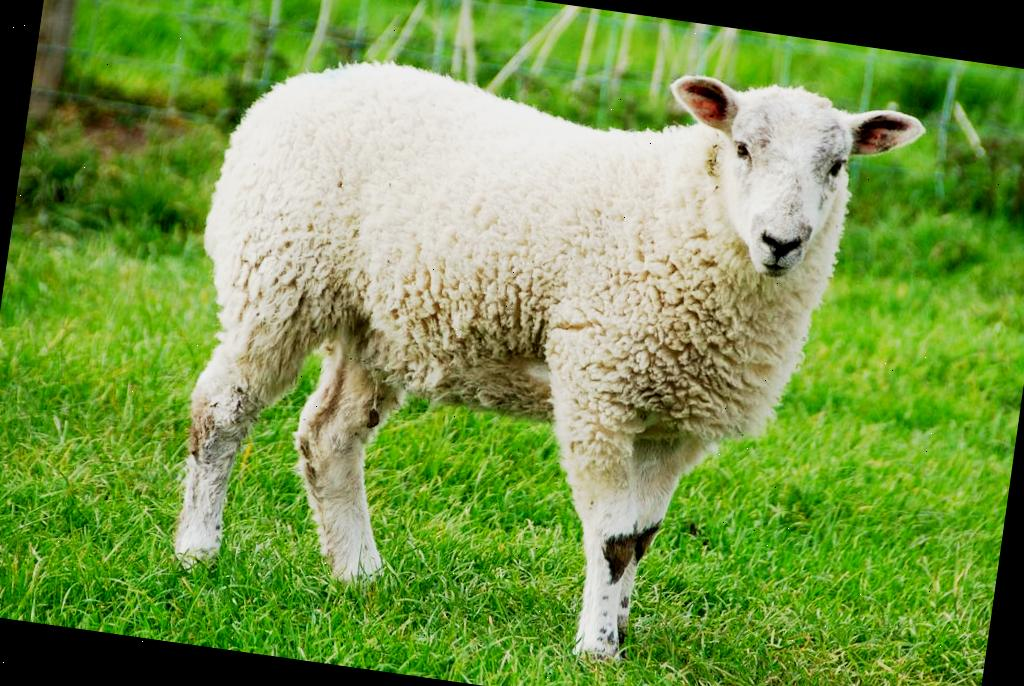Sheep: (147, 7, 929, 686)
